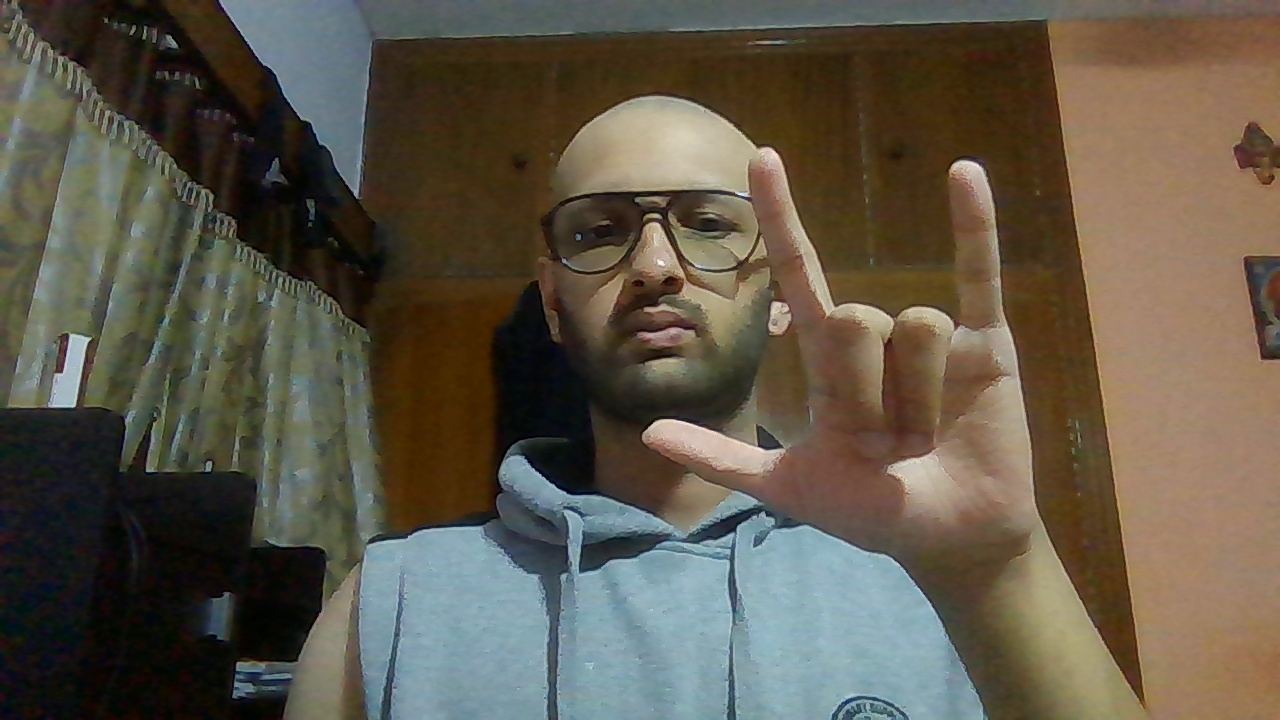I Love You: (640, 144, 1042, 561)
